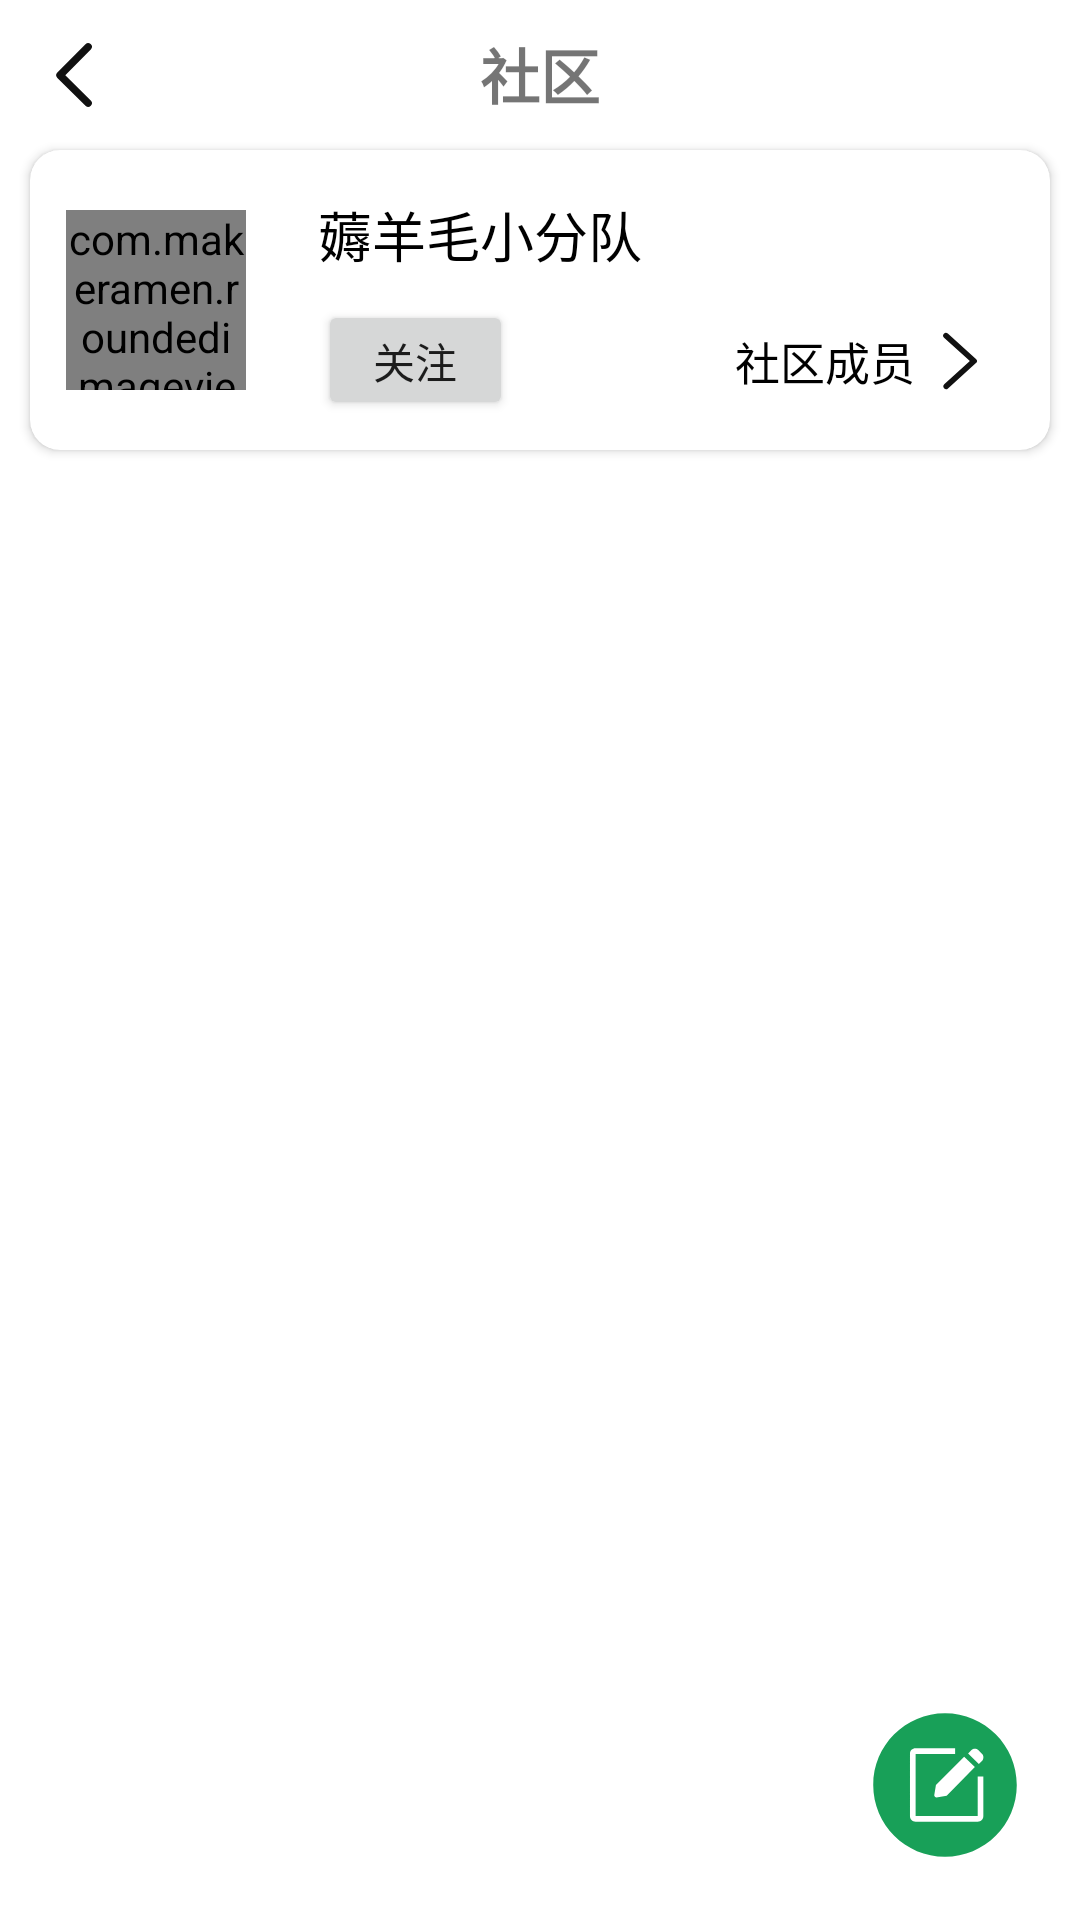

Icon click points for this 1080 × 1920 phone screenshot, format point (x, y):
back: point (74, 75)
write: point (945, 1785)
